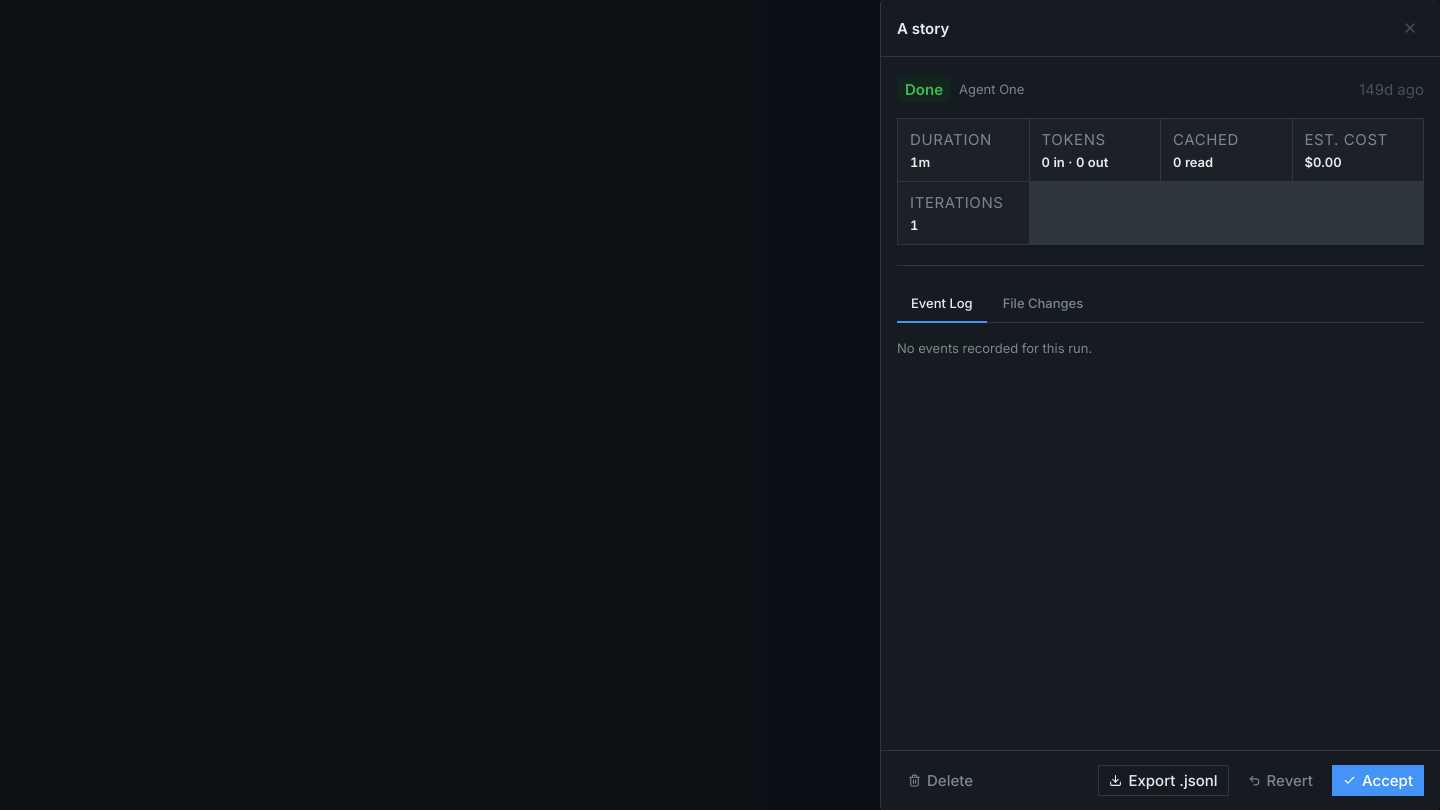
Test: RunDetailPanel run isolation › shows the isolation banner above the diff, not only when there is none
The width and height of the screenshot is (1440, 810).
Step 1. Click the tab "File Changes" → (1043, 304), box [989, 286, 1097, 323]
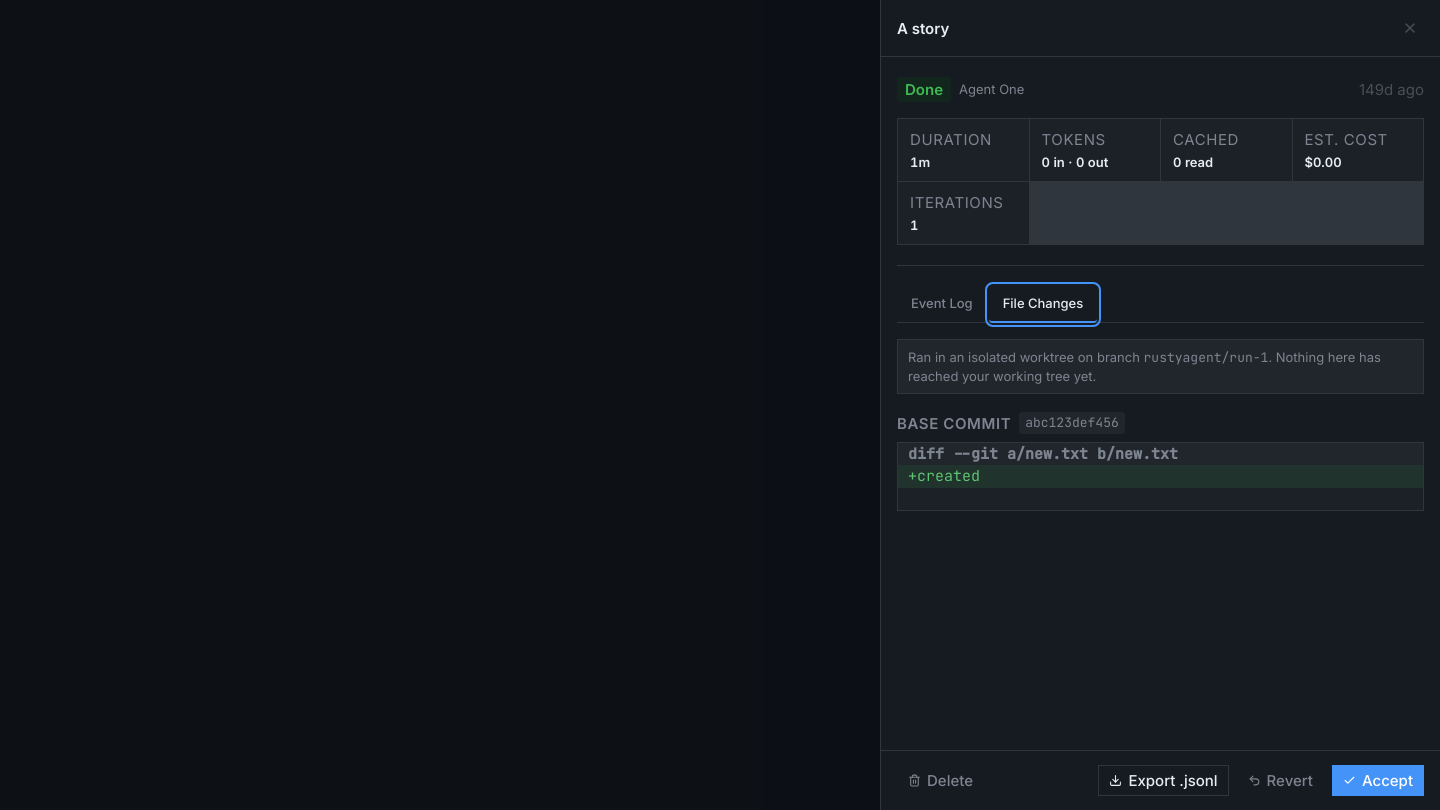
Now the text "isolated worktree on branch" is shown, box [908, 349, 1144, 365]
Now the text "diff --git a/new.txt b/new.txt" is shown, box [908, 444, 1178, 464]
